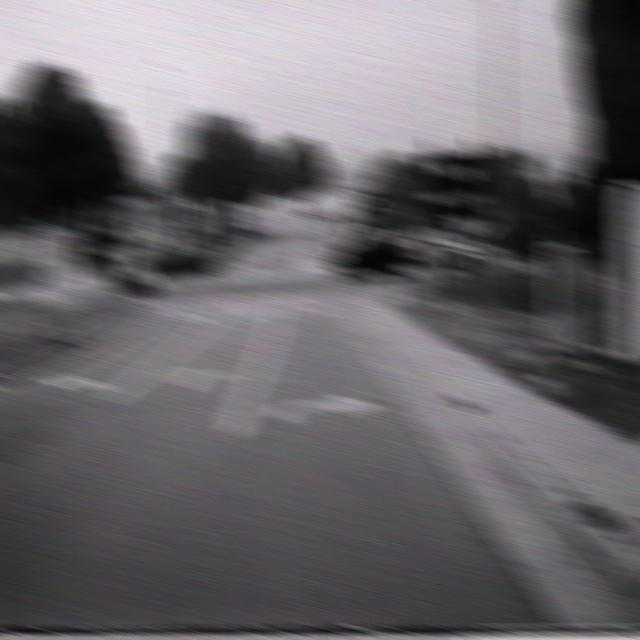stop_sign: (391, 200, 417, 233), (107, 199, 132, 233)
